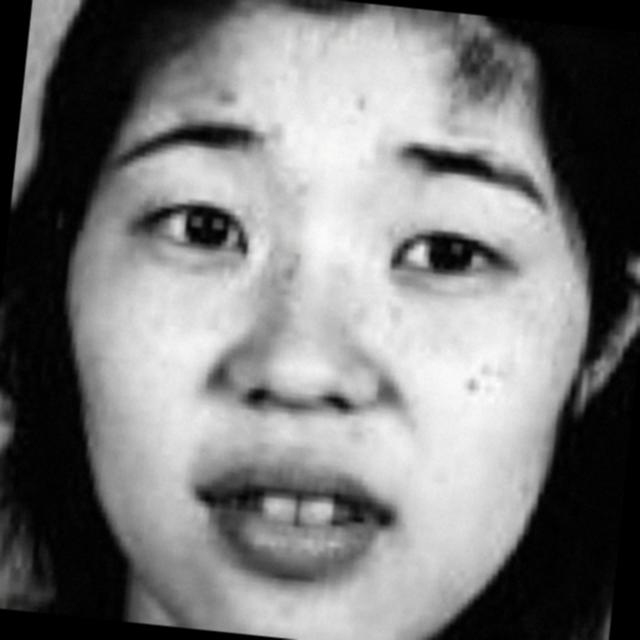fear: (61, 16, 573, 640)
